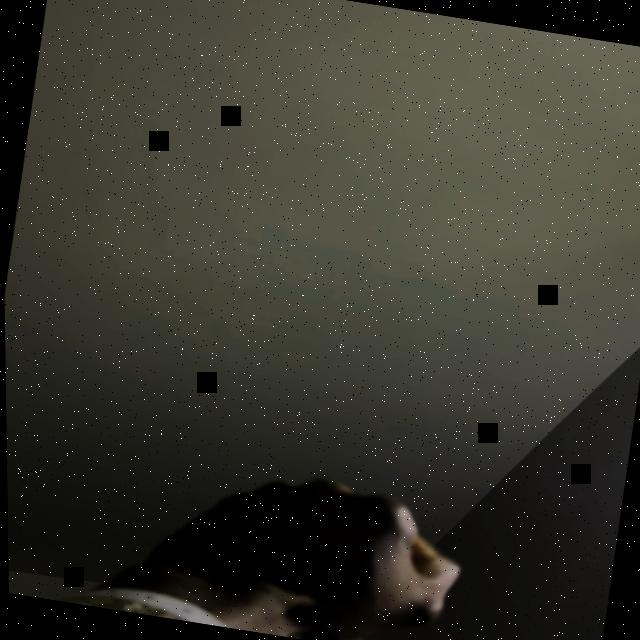Rock: (138, 455, 470, 640)
